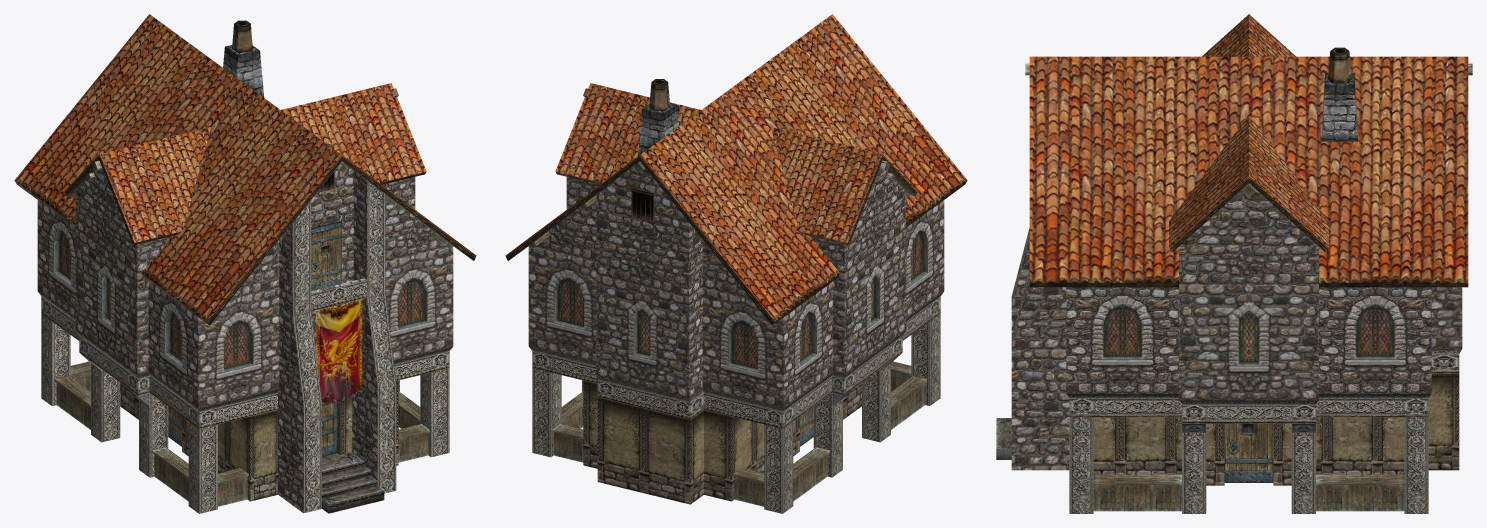
The model's file is MHOUSE3.glb.
3 renders of one model, left to right at view 1: azimuth 30°, elevation 25°; view 2: azimuth 150°, elevation 25°; view 3: azimuth 270°, elevation 25°, orthographic. The views are drawn at different scales.
Visible parts, largest first — view 1: MHOUSE3; view 2: MHOUSE3; view 3: MHOUSE3.
Boxes of the visible parts, x1=… form: MHOUSE3: x1=14, y1=14, x2=476, y2=513; MHOUSE3: x1=505, y1=14, x2=967, y2=513; MHOUSE3: x1=996, y1=14, x2=1472, y2=513.
Bounding box in the file's own units: 13 × 15 × 15.64.
Materials: 15 (15 with a texture image).
